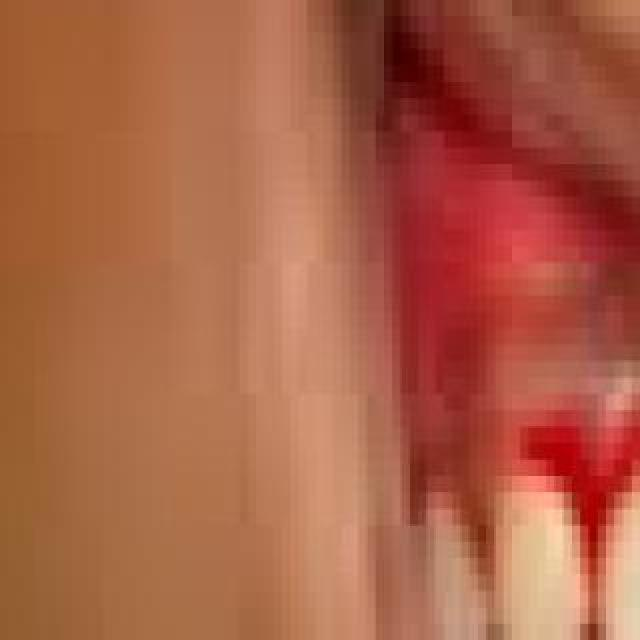spacing: (544, 504, 630, 640)
